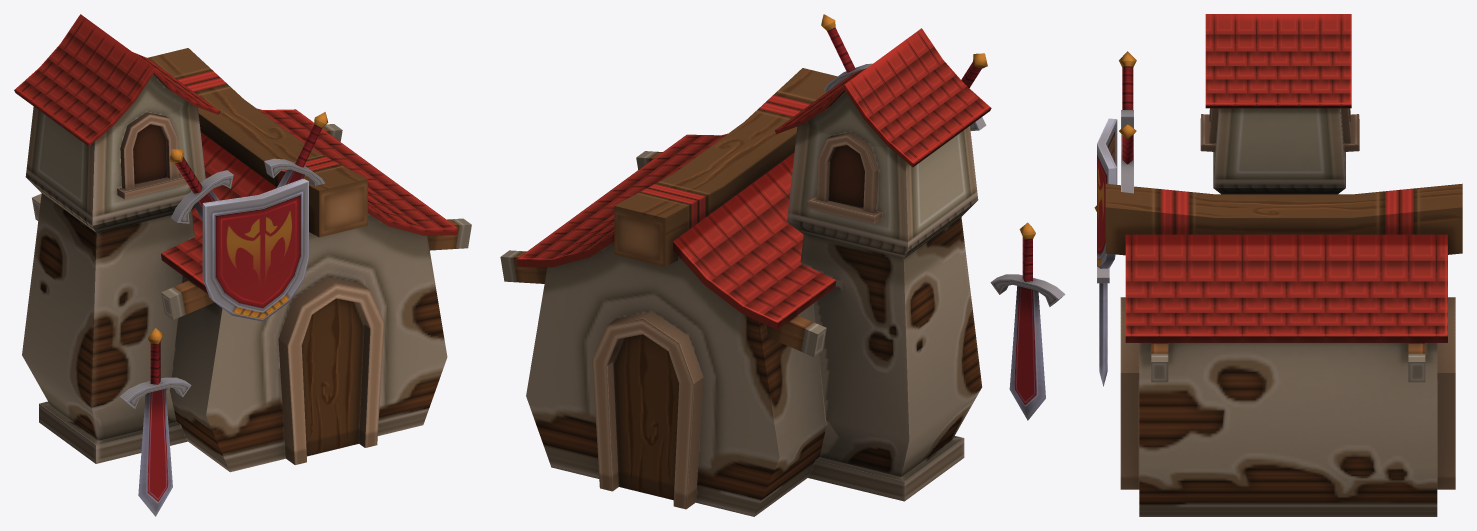
The model's file is Barrack_Level1_F.FBX.
The picture shows the model from 3 angles, left to right: view 1: azimuth 30°, elevation 25°; view 2: azimuth 150°, elevation 25°; view 3: azimuth 270°, elevation 25°; orthographic projection. The views are drawn at different scales.
Visible parts, largest first — view 1: Barrack_Level006, Barrack_Shield002, Barrack_Sword001; view 2: Barrack_Level006, Barrack_Sword001, Barrack_Shield002; view 3: Barrack_Level006, Barrack_Shield002, Barrack_Sword001.
Boxes of the visible parts, bbox=[...] form: Barrack_Level006: bbox=[14, 14, 471, 472]; Barrack_Shield002: bbox=[169, 112, 328, 321]; Barrack_Sword001: bbox=[120, 328, 191, 516]; Barrack_Level006: bbox=[500, 28, 991, 516]; Barrack_Sword001: bbox=[990, 222, 1065, 420]; Barrack_Shield002: bbox=[821, 14, 987, 130]; Barrack_Level006: bbox=[1105, 14, 1462, 516]; Barrack_Shield002: bbox=[1097, 51, 1136, 268]; Barrack_Sword001: bbox=[1094, 205, 1109, 386].
Bounding box in the file's own units: 78.16 × 80.01 × 67.21.
